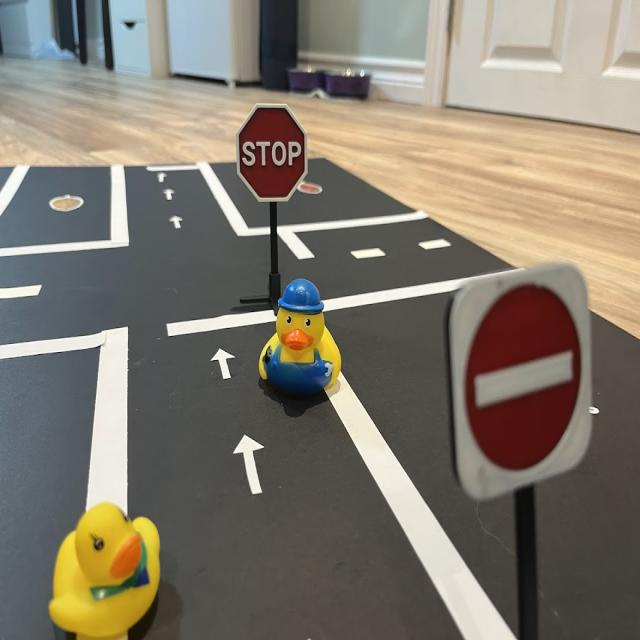duck_regular: (49, 504, 162, 640)
duck_specialty: (259, 280, 343, 405)
road_oneway: (232, 426, 270, 502), (209, 342, 237, 387), (169, 210, 189, 237), (163, 188, 180, 207), (156, 167, 169, 185)
sign_noentry: (446, 264, 597, 506)
sign_stop: (237, 109, 308, 210)
